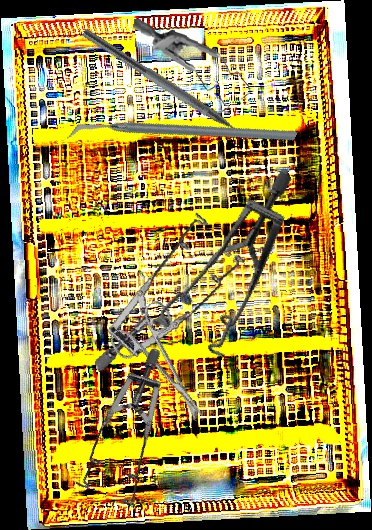Chopper: (66, 40, 299, 229), (73, 27, 261, 156)
Iris Scissors: (103, 297, 226, 438)
Speculum: (121, 166, 349, 376), (38, 345, 227, 527), (67, 203, 261, 373), (126, 18, 256, 116)
